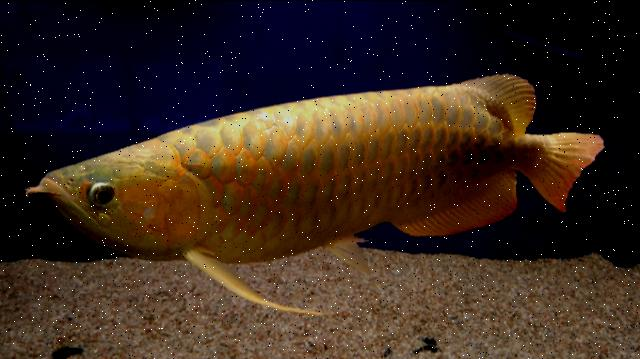Mulut: (9, 153, 117, 249)
Sirip Anal: (389, 162, 523, 242)
Sirip Dada: (171, 234, 335, 338)
Sirip Ekor: (498, 102, 618, 222)
Sirip Perut: (313, 217, 385, 289)
Sirip Punggung: (383, 68, 544, 142)
